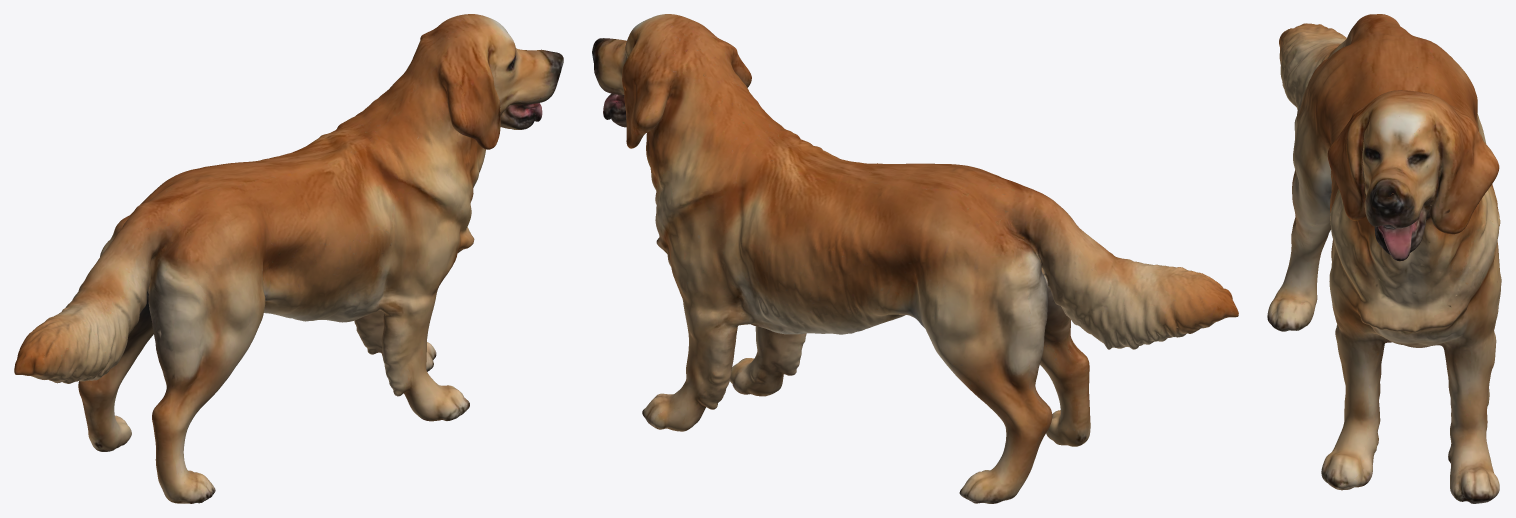
The model's file is perro-3d.glb.
The picture shows the model from 3 angles, left to right: view 1: azimuth 30°, elevation 25°; view 2: azimuth 150°, elevation 25°; view 3: azimuth 270°, elevation 25°; orthographic projection. The views are drawn at different scales.
Parts seen in each view (by area): view 1: geometry_0; view 2: geometry_0; view 3: geometry_0.
Boxes of the visible parts, box(x1,y1,x2,y2) form: geometry_0: box(14, 14, 563, 503); geometry_0: box(592, 14, 1238, 503); geometry_0: box(1267, 14, 1501, 503).
Bounding box in the file's own units: 1 × 0.5931 × 0.3014.
Materials: 1 (1 with a texture image).
